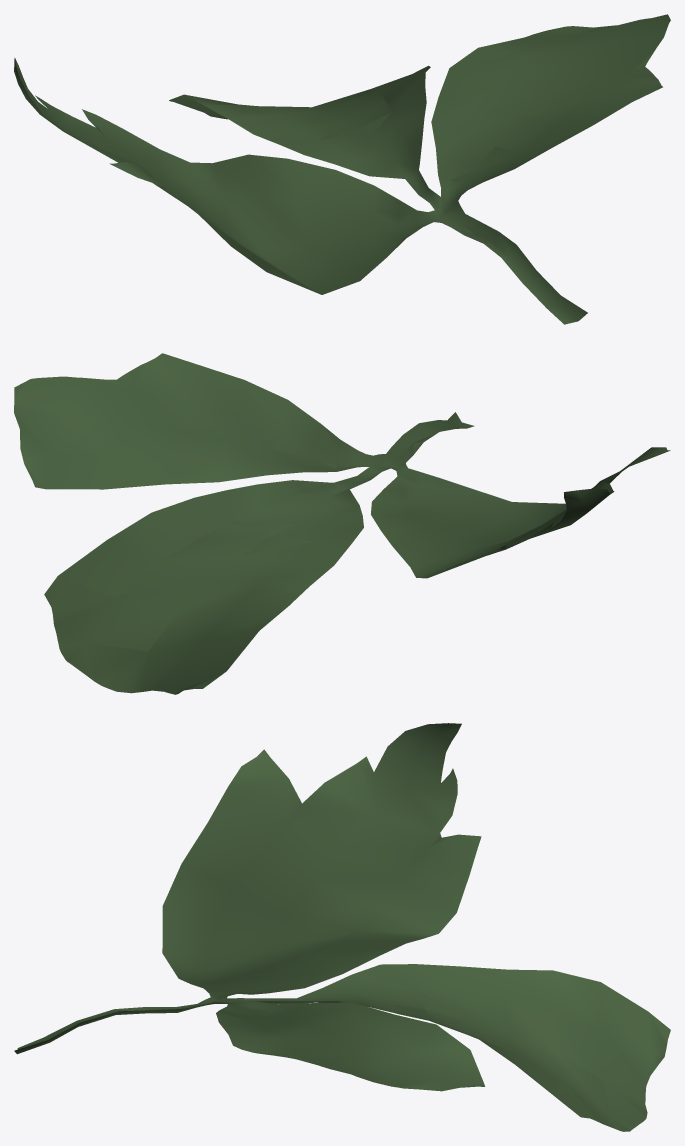
File: trees-leaves-leaf-cluster_v7.glb
The picture shows the model from 3 angles, top to bottom: view 1: azimuth 30°, elevation 25°; view 2: azimuth 150°, elevation 25°; view 3: azimuth 270°, elevation 25°; orthographic projection. The views are drawn at different scales.
Visible parts, largest first — view 1: Leaf Cluster_v7; view 2: Leaf Cluster_v7; view 3: Leaf Cluster_v7.
Boxes of the visible parts, x1,y1,x2,y2 form: Leaf Cluster_v7: (14,14,670,324); Leaf Cluster_v7: (14,353,670,694); Leaf Cluster_v7: (14,723,670,1131).
Size of the model in its own units: 0.15 by 0.0514 by 0.1412.
